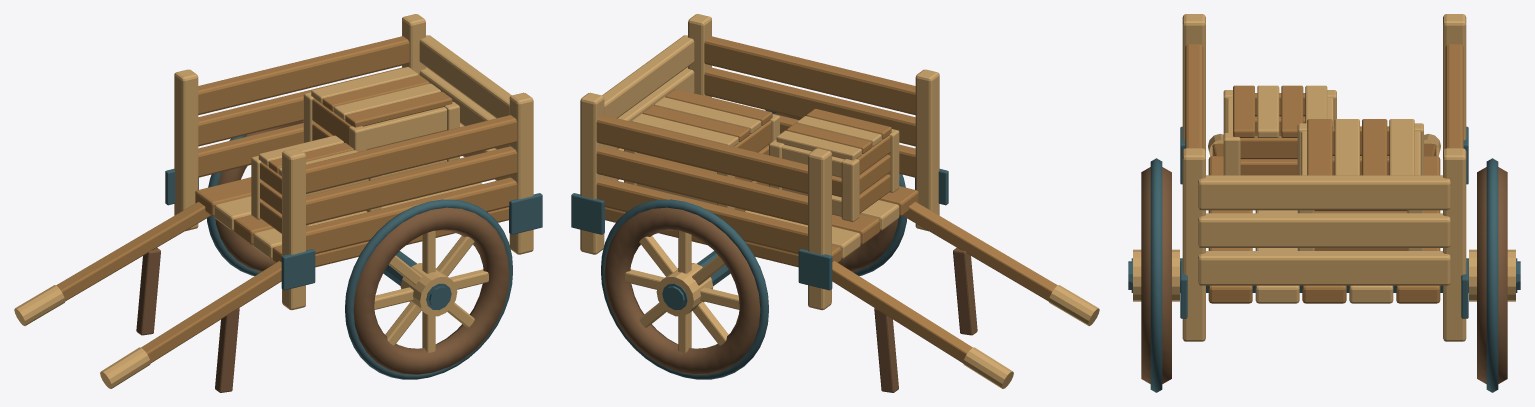
The model's file is SM_WoodHandcart.fbx.
The picture shows the model from 3 angles, left to right: view 1: azimuth 30°, elevation 25°; view 2: azimuth 150°, elevation 25°; view 3: azimuth 270°, elevation 25°; orthographic projection. The views are drawn at different scales.
Visible parts, largest first — view 1: SM_WoodHandcart; view 2: SM_WoodHandcart; view 3: SM_WoodHandcart.
Boxes of the visible parts, box(x1,y1,x2,y2) form: SM_WoodHandcart: box(14, 14, 542, 392); SM_WoodHandcart: box(571, 14, 1099, 392); SM_WoodHandcart: box(1128, 14, 1520, 392).
Size of the model in its own units: 2.27 by 1.51 by 1.25.
